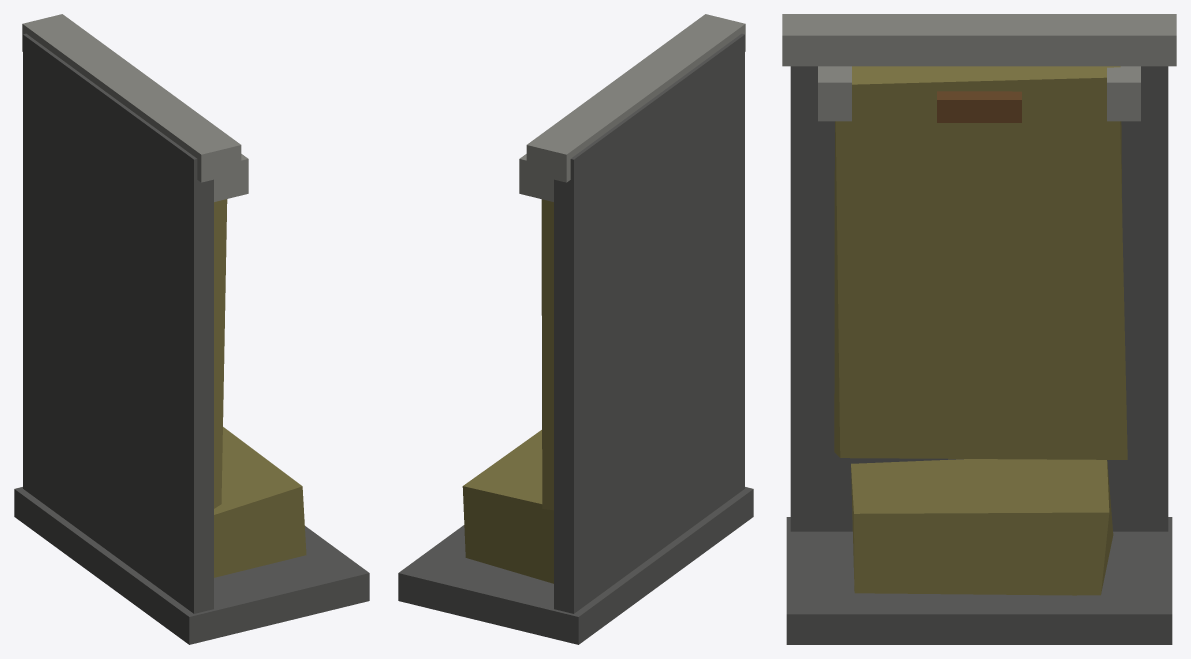
The model's file is cargo_sacks.glb.
The picture shows the model from 3 angles, left to right: view 1: azimuth 30°, elevation 25°; view 2: azimuth 150°, elevation 25°; view 3: azimuth 270°, elevation 25°; orthographic projection. The views are drawn at different scales.
Parts seen in each view (by area): view 1: cargo_sacks; view 2: cargo_sacks; view 3: cargo_sacks.
Part boxes in pixels (x1,y1,x2,y2): cargo_sacks: (14,14,369,644); cargo_sacks: (398,14,753,644); cargo_sacks: (782,14,1176,644).
Size of the model in its own units: 0.27 by 0.7 by 0.464.
